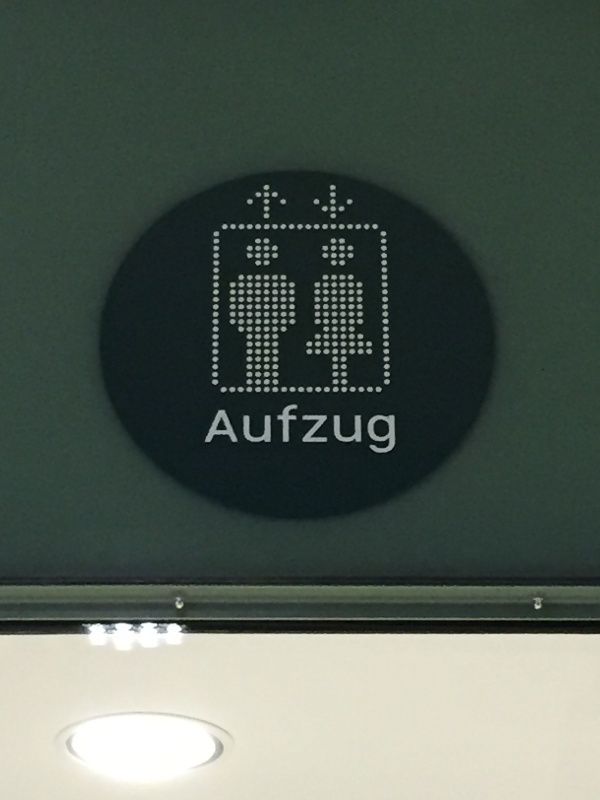text: (225, 404, 240, 455), (241, 404, 256, 455), (257, 404, 272, 455), (273, 404, 288, 455), (289, 404, 304, 455), (305, 404, 320, 455), (321, 404, 336, 455), (337, 404, 352, 455), (353, 404, 368, 455), (369, 404, 384, 455), (385, 404, 396, 455), (220, 404, 224, 455)
